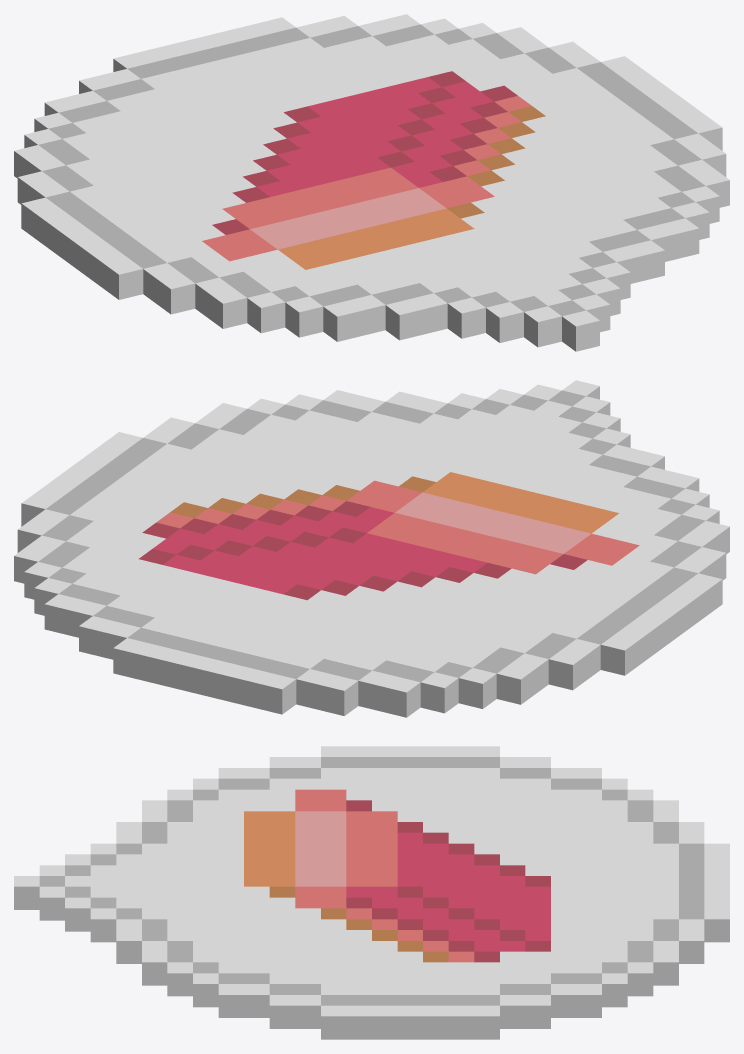
The model's file is meat_pork_pic.fbx.
The picture shows the model from 3 angles, top to bottom: view 1: azimuth 30°, elevation 25°; view 2: azimuth 150°, elevation 25°; view 3: azimuth 270°, elevation 25°; orthographic projection. The views are drawn at different scales.
Visible parts, largest first — view 1: meat_pork:Mesh; view 2: meat_pork:Mesh; view 3: meat_pork:Mesh.
Part boxes in pixels (<box>): meat_pork:Mesh: <box>14,14,729,351</box>; meat_pork:Mesh: <box>14,380,729,717</box>; meat_pork:Mesh: <box>14,746,729,1039</box>.
Bounding box in the file's own units: 25 × 1 × 28.
